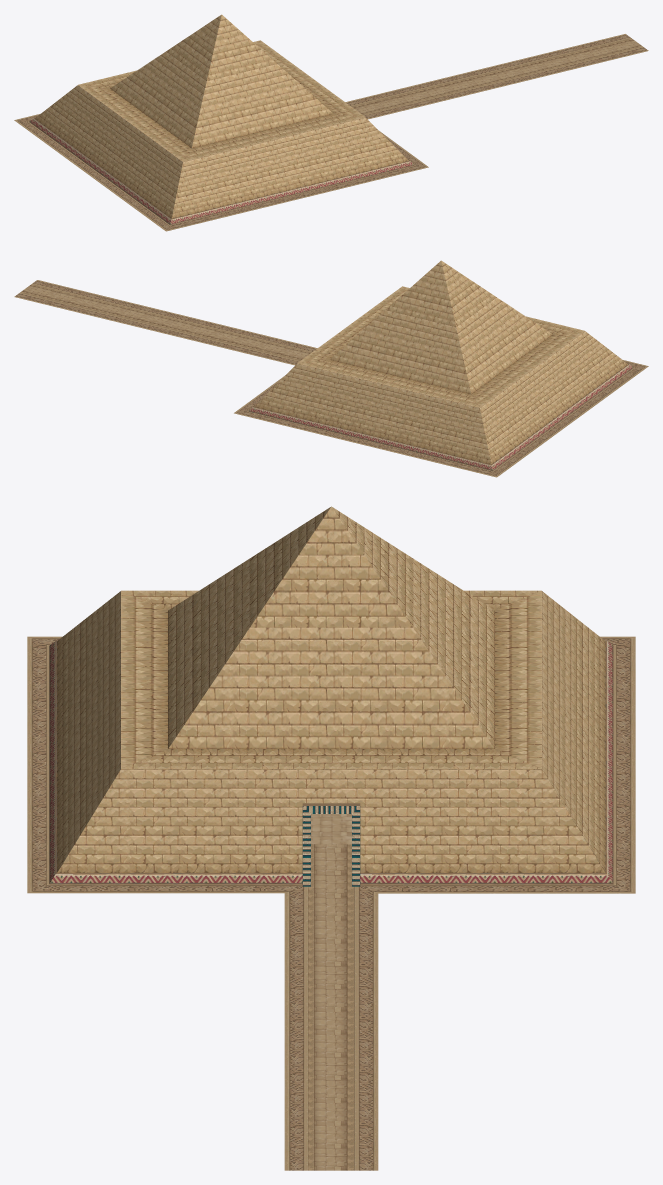
The model's file is house_0130005.FBX.
3 renders of one model, top to bottom at view 1: azimuth 30°, elevation 25°; view 2: azimuth 150°, elevation 25°; view 3: azimuth 270°, elevation 25°, orthographic. The views are drawn at different scales.
Visible parts, largest first — view 1: house_0130005_roof_200_00, house_0130005_outwall_100_04, house_0130005_floor_100_00, house_0130005_outwall_100_03, house_0130005_floor_201_00, house_0130005_tcx_100_04, house_0130005_tcx_100_03; view 2: house_0130005_roof_200_00, house_0130005_outwall_100_02, house_0130005_floor_100_00, house_0130005_outwall_100_03, house_0130005_floor_201_00, house_0130005_tcx_100_02, house_0130005_tcx_100_03; view 3: house_0130005_roof_200_00, house_0130005_outwall_100_01, house_0130005_floor_100_00, house_0130005_floor_201_00, house_0130005_outwall_100_02, house_0130005_outwall_100_04, house_0130005_tcx_100_01, house_0130005_floor_101_00, house_0130005_tcx_100_02, house_0130005_tcx_100_04.
Boxes of the visible parts, x1,y1,x2,y2 form: house_0130005_roof_200_00: (110,14,332,148); house_0130005_outwall_100_04: (171,117,408,218); house_0130005_floor_100_00: (14,34,648,231); house_0130005_outwall_100_03: (35,85,182,218); house_0130005_floor_201_00: (78,40,365,161); house_0130005_tcx_100_04: (170,161,414,224); house_0130005_tcx_100_03: (29,118,171,224); house_0130005_roof_200_00: (330,260,552,394); house_0130005_outwall_100_02: (254,363,491,464); house_0130005_floor_100_00: (14,280,648,477); house_0130005_outwall_100_03: (480,331,627,464); house_0130005_floor_201_00: (297,286,584,407); house_0130005_tcx_100_02: (248,407,492,470); house_0130005_tcx_100_03: (491,364,633,470); house_0130005_roof_200_00: (168,506,494,748); house_0130005_outwall_100_01: (57,769,605,875); house_0130005_floor_100_00: (27,636,635,1170); house_0130005_floor_201_00: (121,590,541,768); house_0130005_outwall_100_02: (541,591,605,872); house_0130005_outwall_100_04: (57,591,120,871); house_0130005_tcx_100_01: (49,873,613,886); house_0130005_floor_101_00: (311,814,351,883); house_0130005_tcx_100_02: (605,641,613,883); house_0130005_tcx_100_04: (49,641,56,883).
Size of the model in its own units: 4319 by 976 by 2079.
27 materials, 27 textured.
